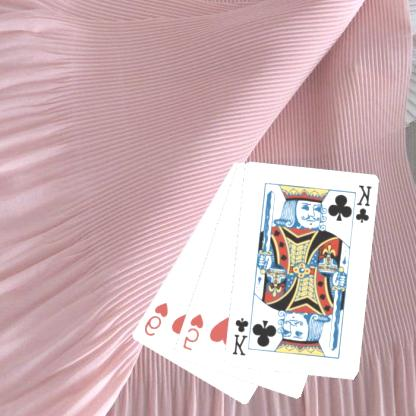5H: (181, 311, 206, 352)
6H: (143, 300, 171, 338)
KC: (231, 312, 256, 357), (350, 183, 374, 228)
